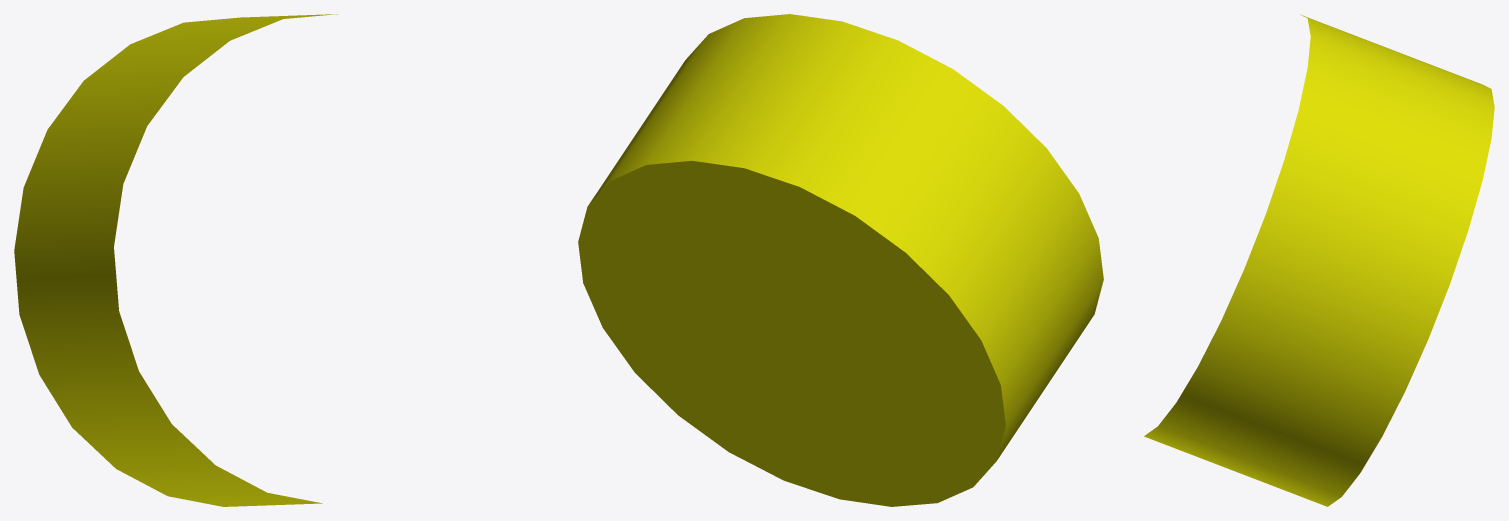
The model's file is Cap2_84.glb.
3 renders of one model, left to right at view 1: azimuth 30°, elevation 25°; view 2: azimuth 150°, elevation 25°; view 3: azimuth 270°, elevation 25°, orthographic. The views are drawn at different scales.
Bounding box in the file's own units: 14.4 × 15.67 × 11.51.
